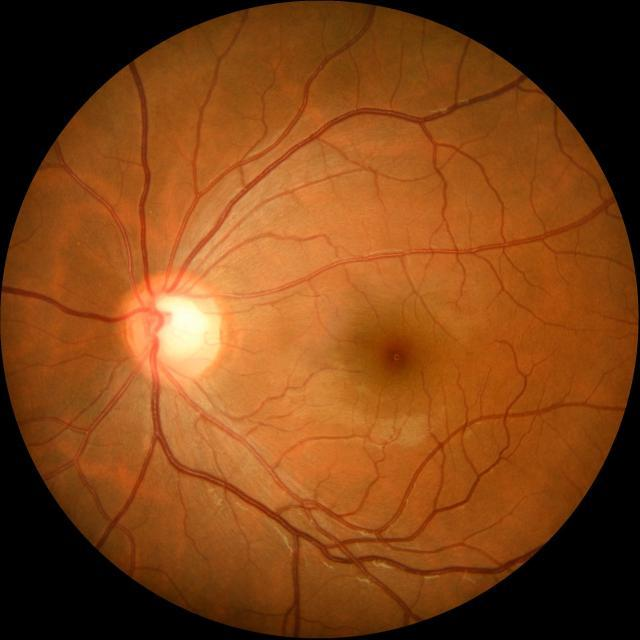OC: (144, 293, 208, 363)
OD: (123, 271, 220, 382)
